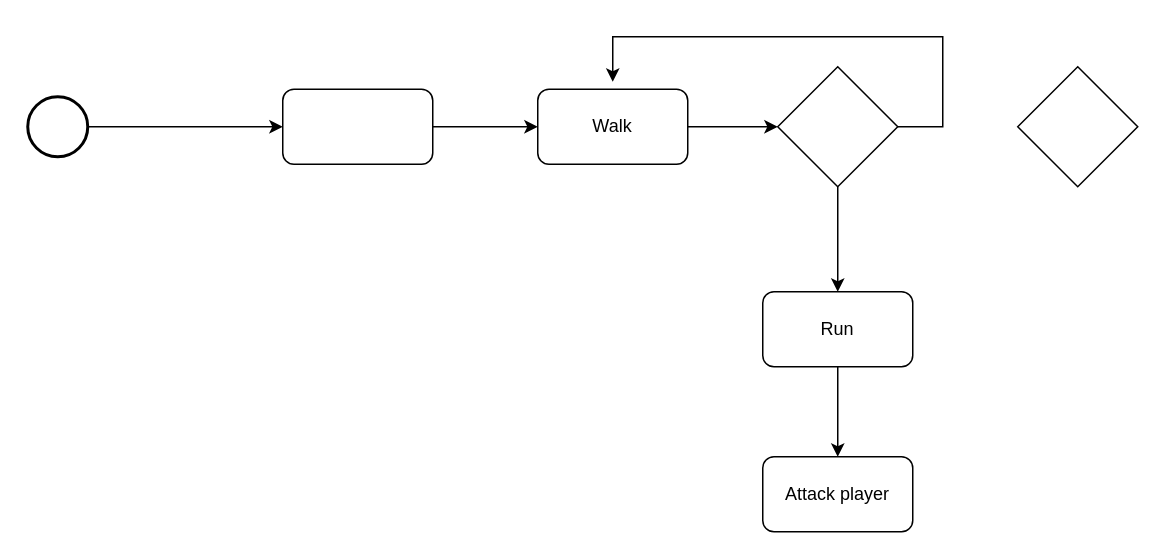
Some shapes in this 1164 by 558 pixel diagram are drawn without their labels. The centre of each missing label's shape, as x and y in pixels:
"Idle" goes at point (357, 126).
"Is player Detected?" goes at point (837, 126).
